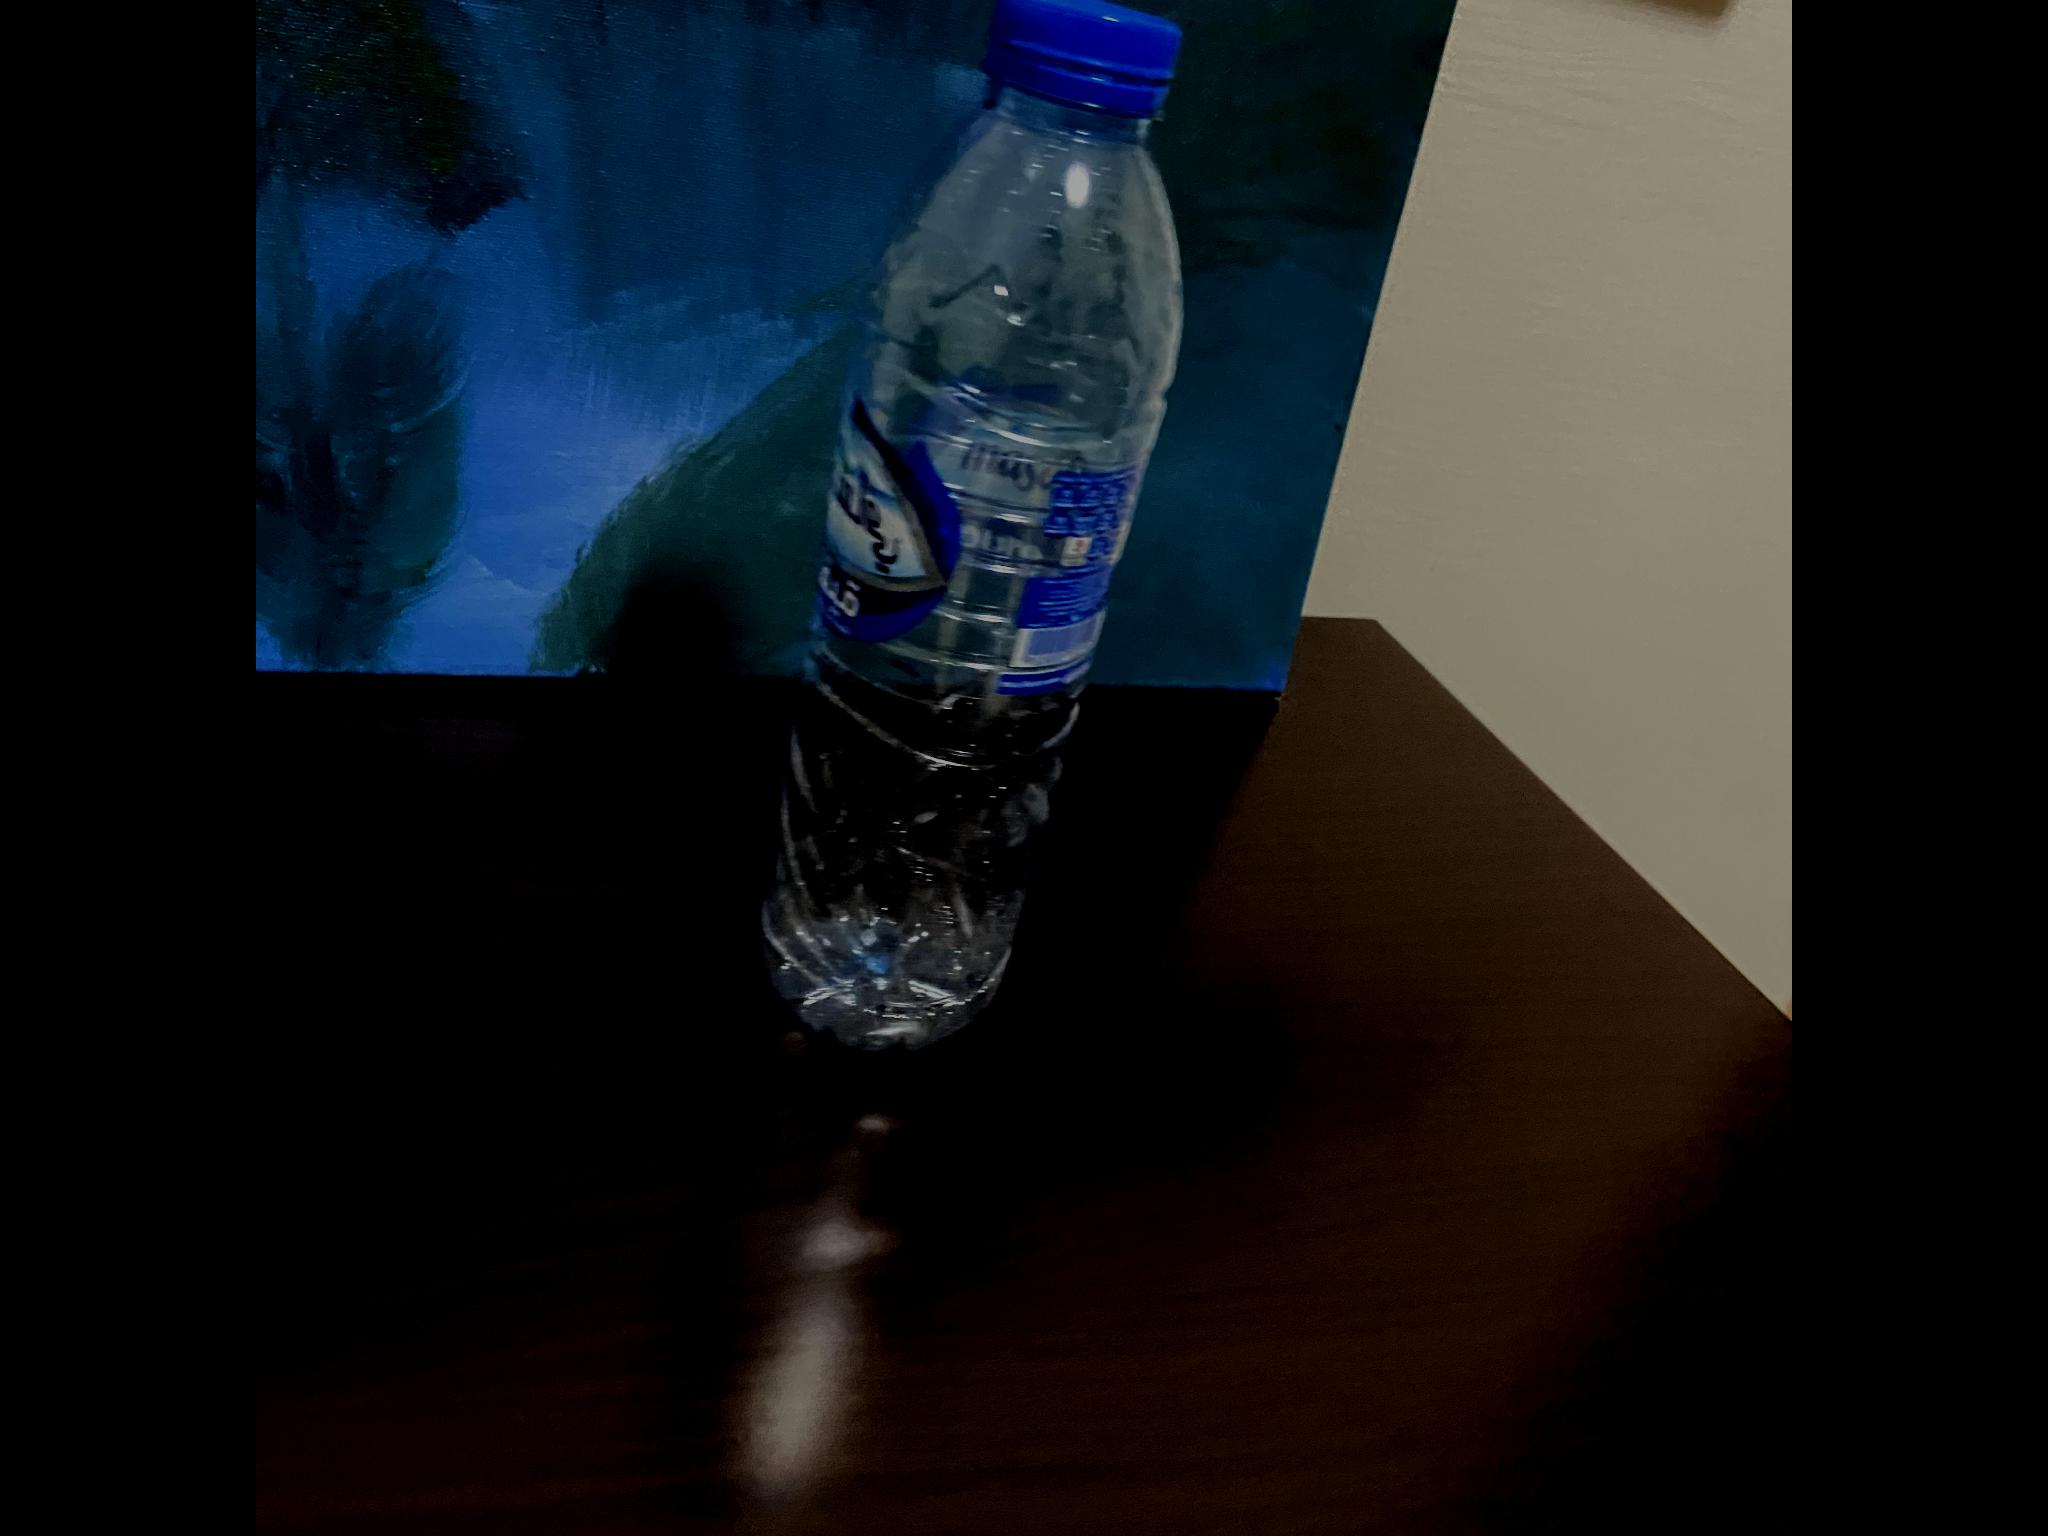bottle: (738, 0, 1211, 1097)
